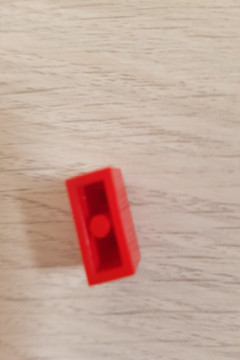1x2 red: (65, 166, 142, 288)
